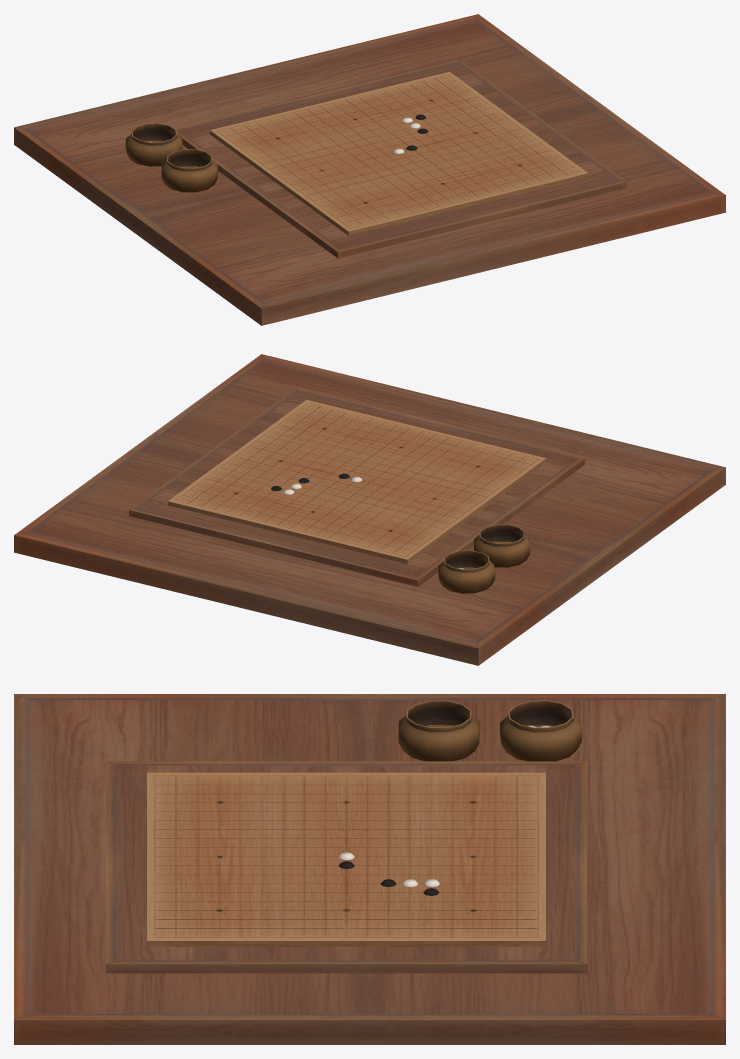
Rendered from Furniture_02_b.FBX.
3 views of the same model, one above another, from view 1: azimuth 30°, elevation 25°; view 2: azimuth 150°, elevation 25°; view 3: azimuth 270°, elevation 25° (orthographic). The views are drawn at different scales.
Parts seen in each view (by area): view 1: Furniture_02_b; view 2: Furniture_02_b; view 3: Furniture_02_b.
Boxes of the visible parts, bbox=[...] form: Furniture_02_b: bbox=[14, 14, 725, 325]; Furniture_02_b: bbox=[14, 354, 725, 665]; Furniture_02_b: bbox=[14, 694, 725, 1044].
Size of the model in its own units: 127 by 10.55 by 117.
